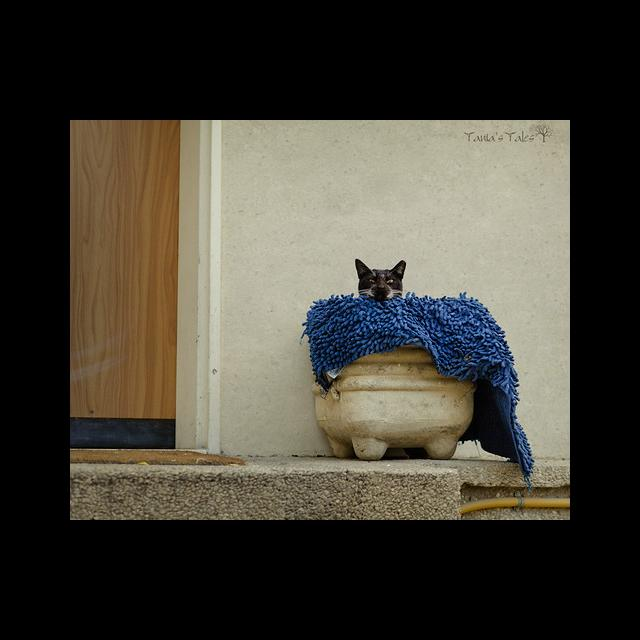animals: (353, 258, 409, 300)
